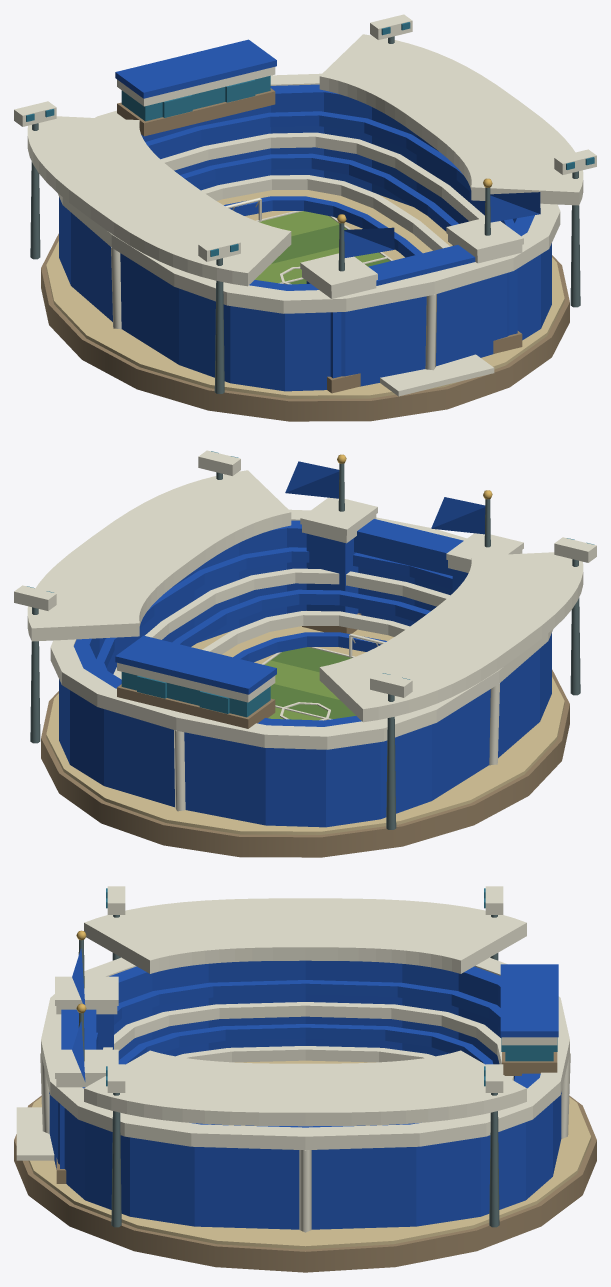
The model's file is main-stadium-lv4.glb.
3 renders of one model, top to bottom at view 1: azimuth 30°, elevation 25°; view 2: azimuth 150°, elevation 25°; view 3: azimuth 270°, elevation 25°, orthographic. The views are drawn at different scales.
Visible parts, largest first — view 1: stadium_shell_royal, canopy_white, foundation_stoneDark, seating_royal, upper_concourse_white, foundation_sand, seating_white, media_box_roof_royal, entrance_pylons_roof_white, lighting_iron, lighting_white, flags_royal (+14 smaller); view 2: stadium_shell_royal, canopy_white, foundation_stoneDark, foundation_sand, upper_concourse_white, seating_royal, seating_white, media_box_roof_royal, entrance_bridge_royal, entrance_pylons_roof_white, lighting_white, lighting_iron (+12 smaller); view 3: stadium_shell_royal, canopy_white, upper_concourse_white, foundation_stoneDark, seating_royal, foundation_sand, seating_white, media_box_roof_royal, entrance_pylons_roof_white, lighting_iron, lighting_white, facade_ribs_white (+8 smaller).
Boxes of the visible parts, left/top/right/bottom form: stadium_shell_royal: left=59, top=84, right=551, bottom=391; canopy_white: left=27, top=34, right=583, bottom=286; foundation_stoneDark: left=41, top=233, right=569, bottom=421; seating_royal: left=145, top=111, right=514, bottom=257; upper_concourse_white: left=57, top=73, right=560, bottom=313; foundation_sand: left=46, top=190, right=564, bottom=398; seating_white: left=161, top=132, right=484, bottom=250; media_box_roof_royal: left=115, top=39, right=276, bottom=98; entrance_pylons_roof_white: left=300, top=217, right=523, bottom=291; lighting_iron: left=30, top=36, right=580, bottom=393; lighting_white: left=14, top=14, right=596, bottom=261; flags_royal: left=344, top=192, right=540, bottom=257; stadium_shell_royal: left=59, top=520, right=551, bottom=827; canopy_white: left=27, top=470, right=583, bottom=722; foundation_stoneDark: left=41, top=669, right=569, bottom=857; foundation_sand: left=46, top=626, right=564, bottom=834; upper_concourse_white: left=50, top=509, right=553, bottom=749; seating_royal: left=96, top=547, right=452, bottom=670; seating_white: left=113, top=568, right=449, bottom=679; media_box_roof_royal: left=115, top=635, right=276, bottom=694; entrance_bridge_royal: left=354, top=519, right=463, bottom=575; entrance_pylons_roof_white: left=300, top=497, right=523, bottom=565; lighting_white: left=14, top=450, right=596, bottom=697; lighting_iron: left=30, top=472, right=580, bottom=829; stadium_shell_royal: left=49, top=960, right=561, bottom=1229; canopy_white: left=84, top=898, right=526, bottom=1126; upper_concourse_white: left=41, top=957, right=569, bottom=1150; foundation_stoneDark: left=14, top=1095, right=596, bottom=1272; seating_royal: left=96, top=980, right=521, bottom=1081; foundation_sand: left=28, top=1060, right=591, bottom=1249; seating_white: left=103, top=1002, right=513, bottom=1080; media_box_roof_royal: left=500, top=964, right=558, bottom=1037; entrance_pylons_roof_white: left=55, top=976, right=118, bottom=1078; lighting_iron: left=111, top=915, right=499, bottom=1227; lighting_white: left=107, top=886, right=503, bottom=1092; facade_ribs_white: left=40, top=1053, right=570, bottom=1232.
Size of the model in its own units: 0.9074 by 0.3662 by 1.
